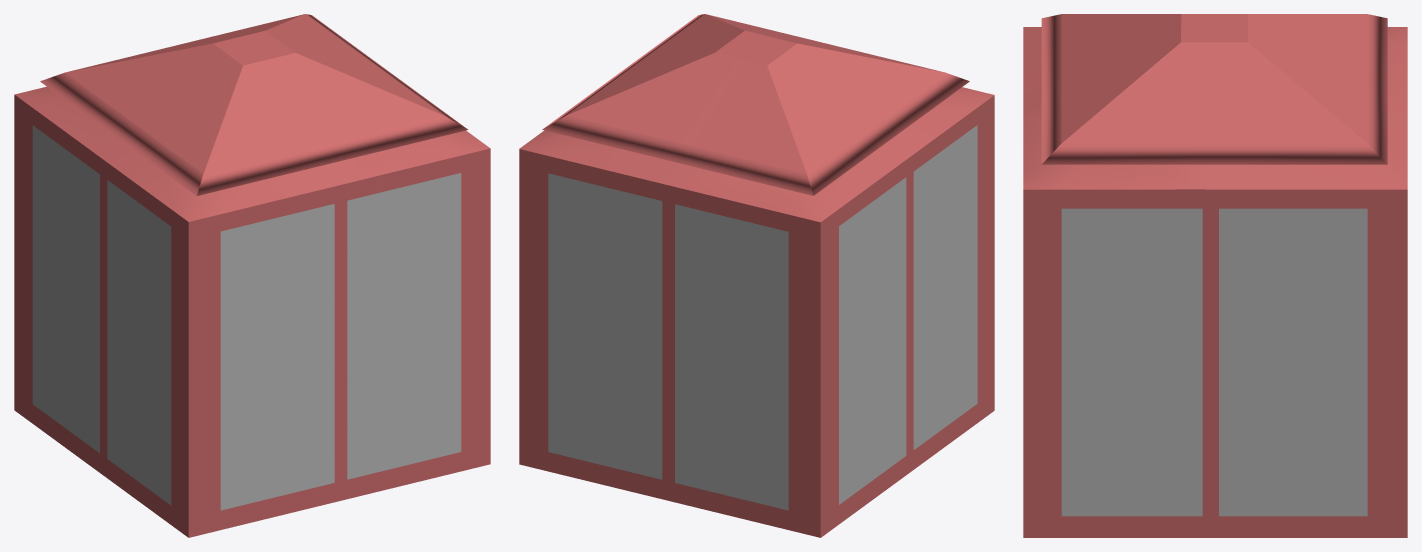
The model's file is Industrialist Lantern.fbx.
3 views of the same model, side by side, from view 1: azimuth 30°, elevation 25°; view 2: azimuth 150°, elevation 25°; view 3: azimuth 270°, elevation 25° (orthographic). The views are drawn at different scales.
Visible parts, largest first — view 1: Industrialist_Lantern; view 2: Industrialist_Lantern; view 3: Industrialist_Lantern.
Part boxes in pixels (x1=…): Industrialist_Lantern: x1=14, y1=14, x2=490, y2=537; Industrialist_Lantern: x1=519, y1=14, x2=994, y2=537; Industrialist_Lantern: x1=1023, y1=14, x2=1407, y2=537.
Bounding box in the file's own units: 7.68 × 9.47 × 7.68.
